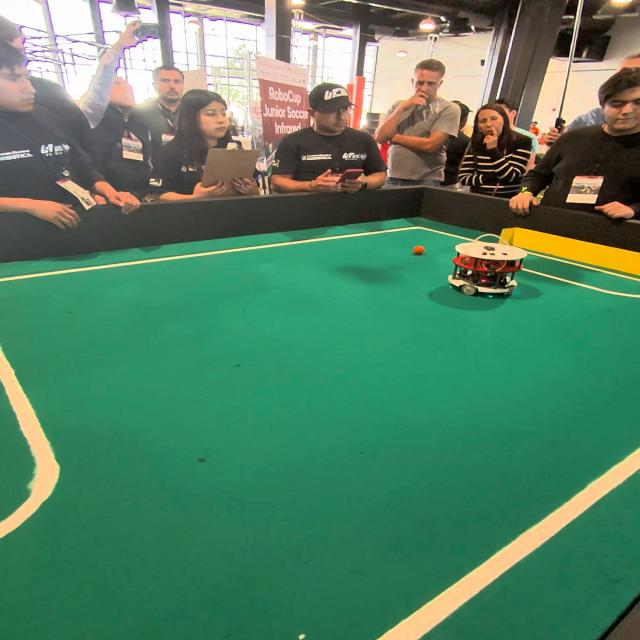Robot: (446, 232, 524, 308)
pelota: (413, 244, 425, 255)
